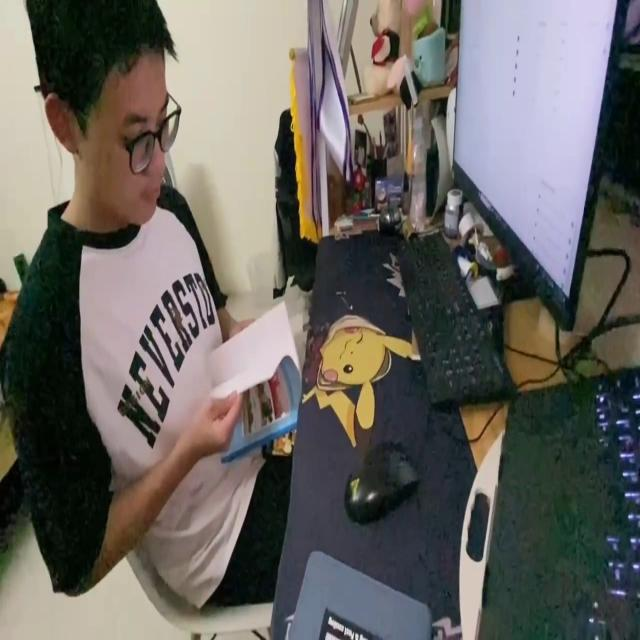book: (202, 296, 304, 468)
laptop: (451, 0, 627, 327), (467, 373, 640, 639)
student: (1, 0, 291, 607)
